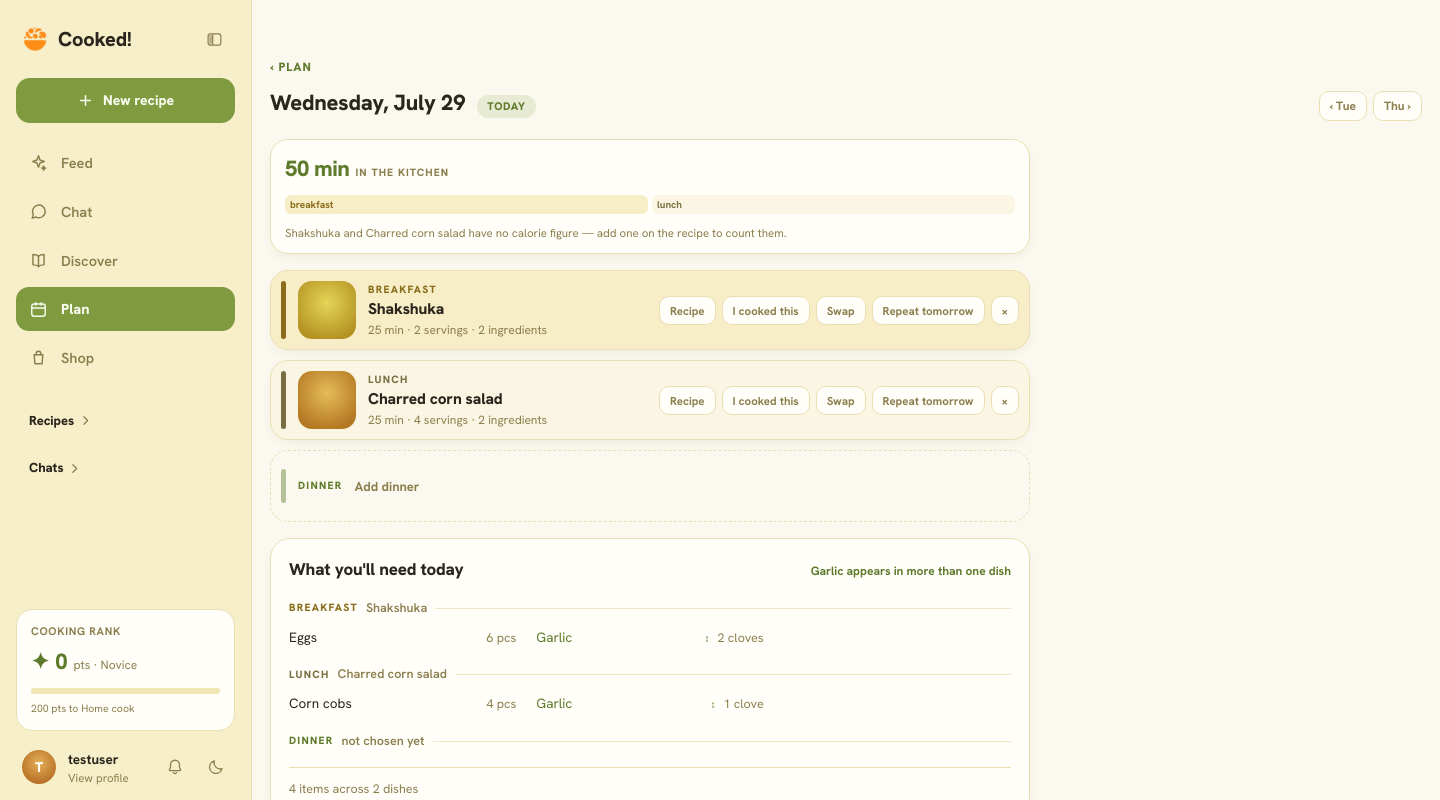
Scenario: the day page › names the shopping-list consequence when a meal is placed
Click the button with aria-label "add a recipe for dinner".
click(320, 485)  # box 270,450 -> 1030,522
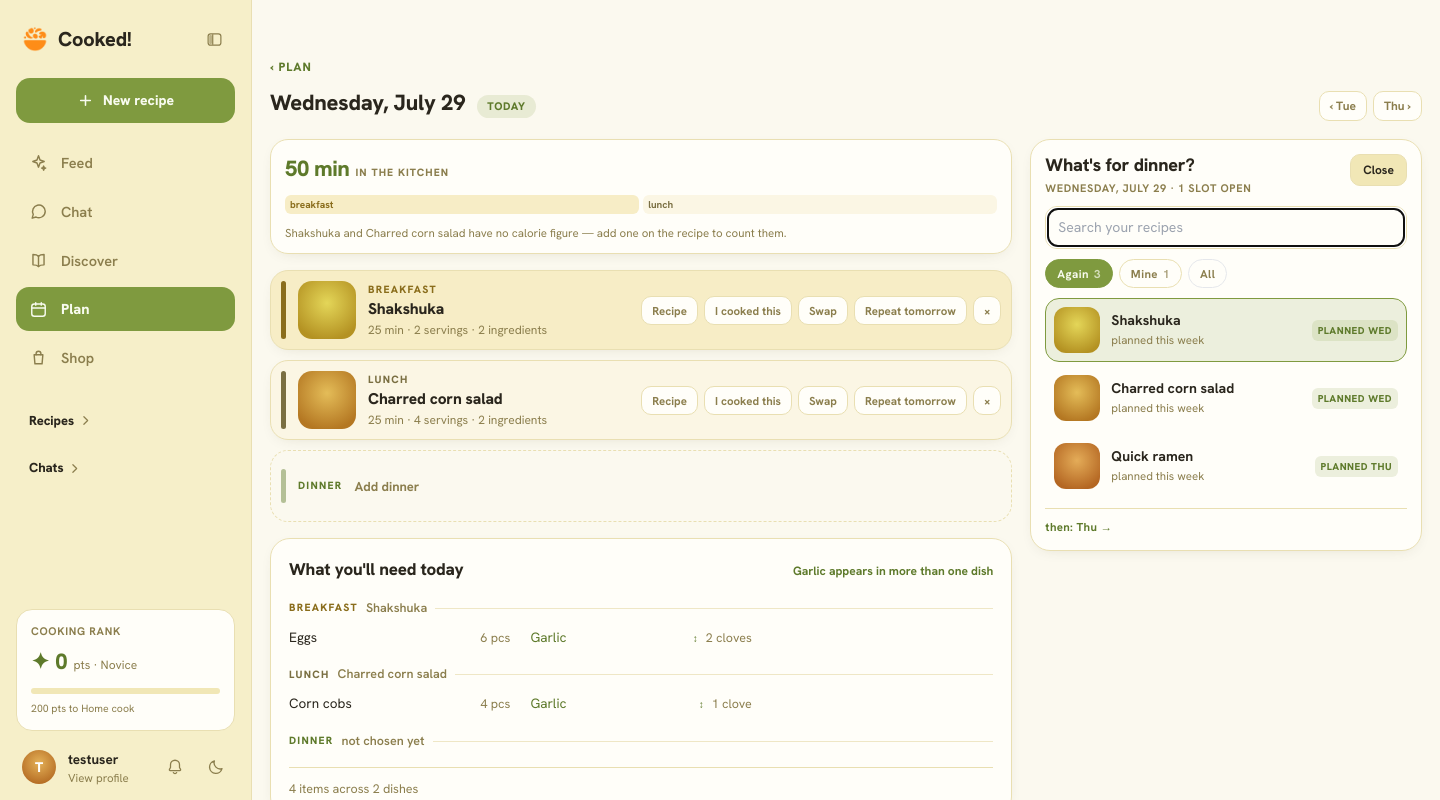
Click the tab "Mine1".
click(1150, 274)  # box 1119,259 -> 1182,288
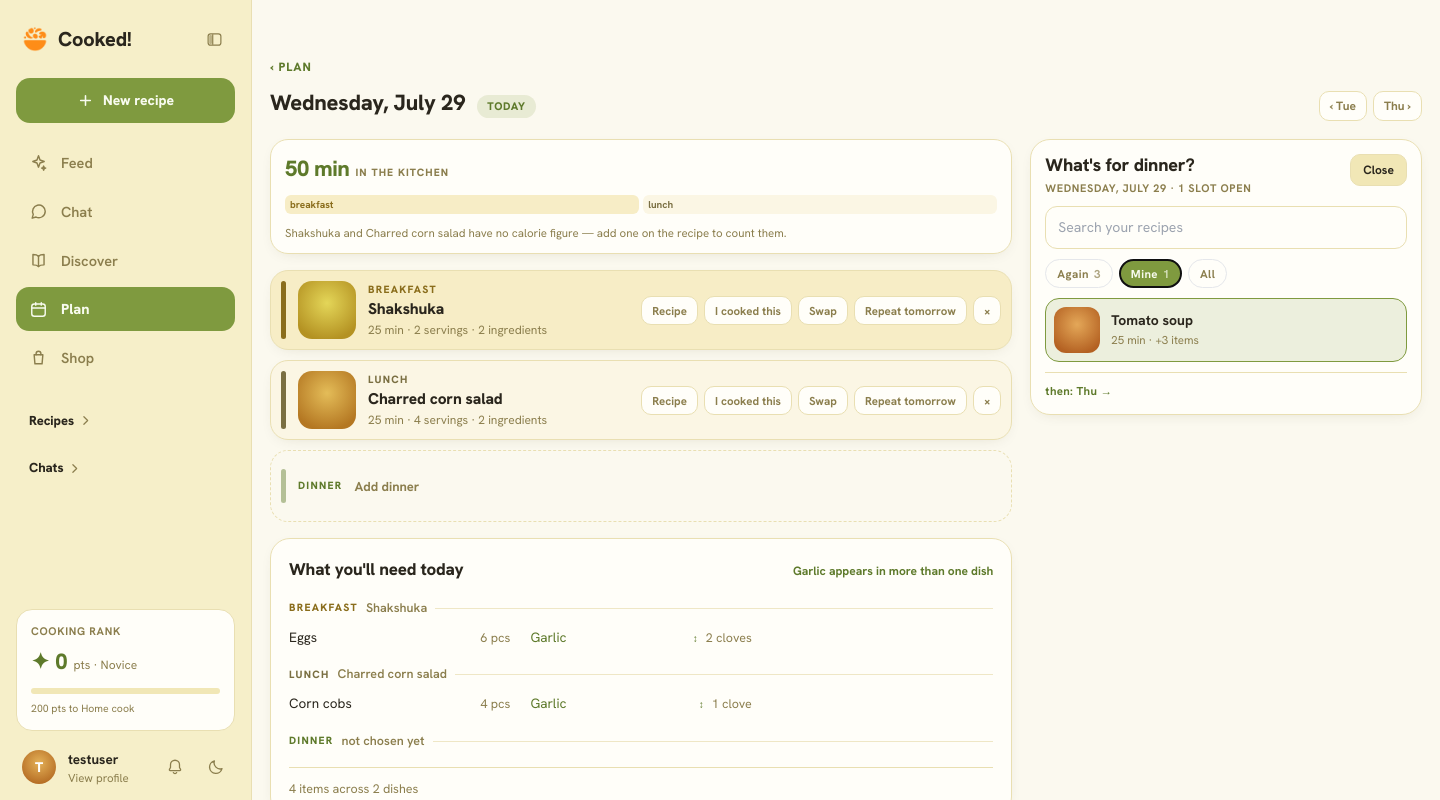
Click the button "Tomato soup 25 min · +3 items".
click(1077, 330)  # box 1045,298 -> 1407,362
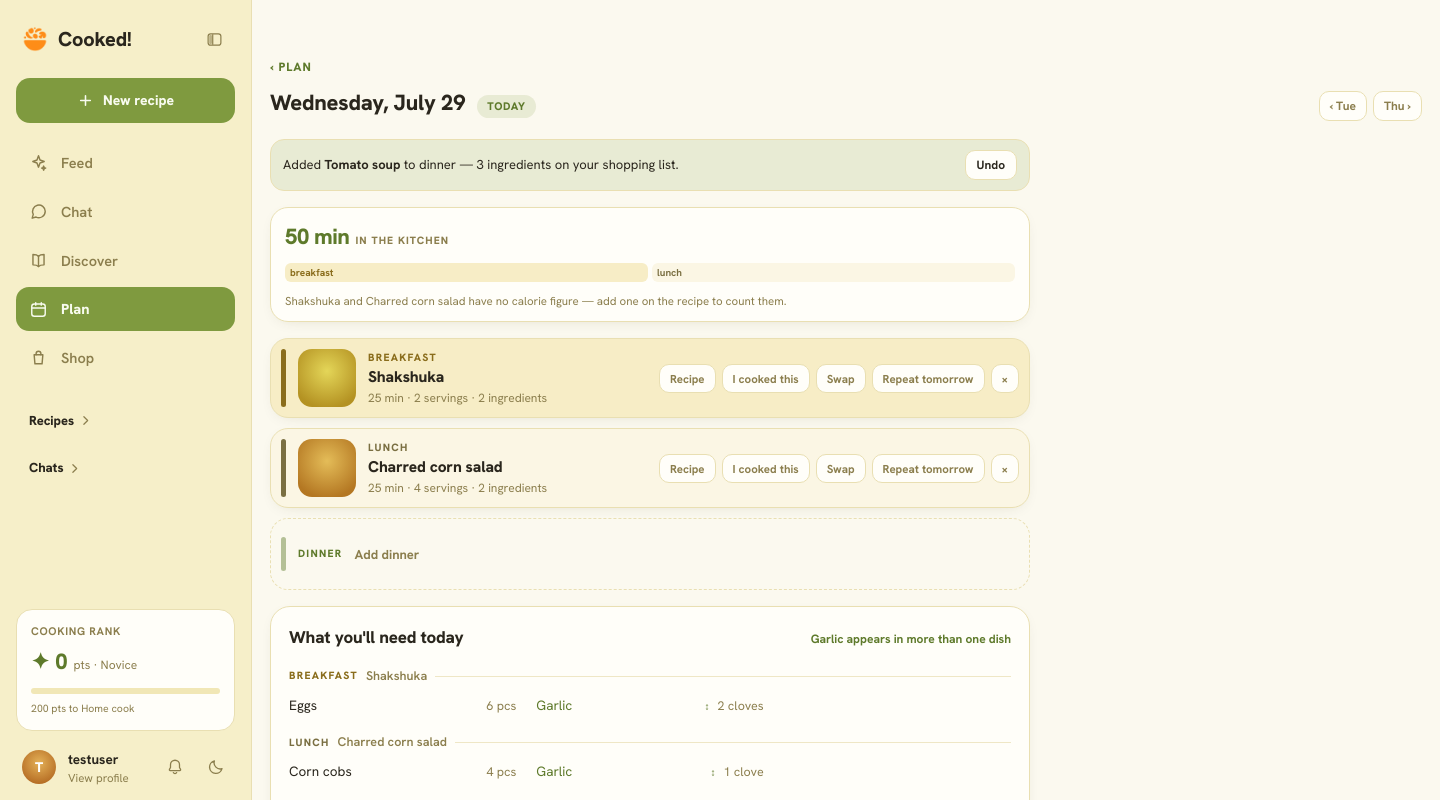
Now the text "3 ingredients on your shopping list" is shown, box 456,156 -> 679,173
